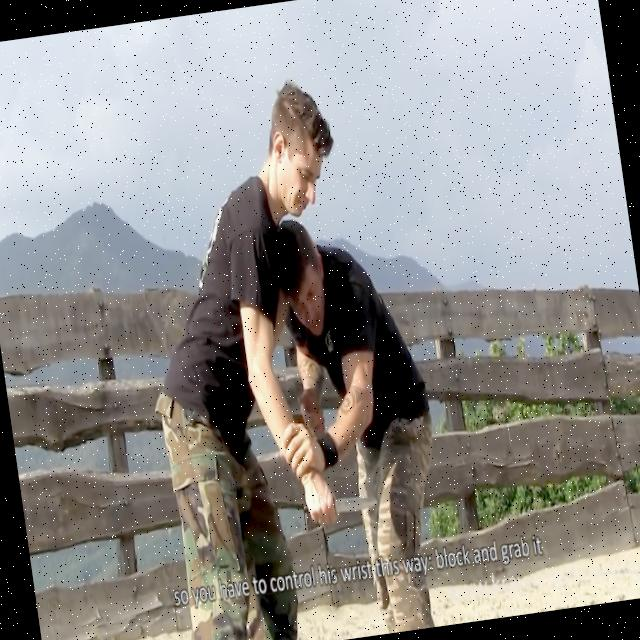knife: (333, 493, 379, 515)
